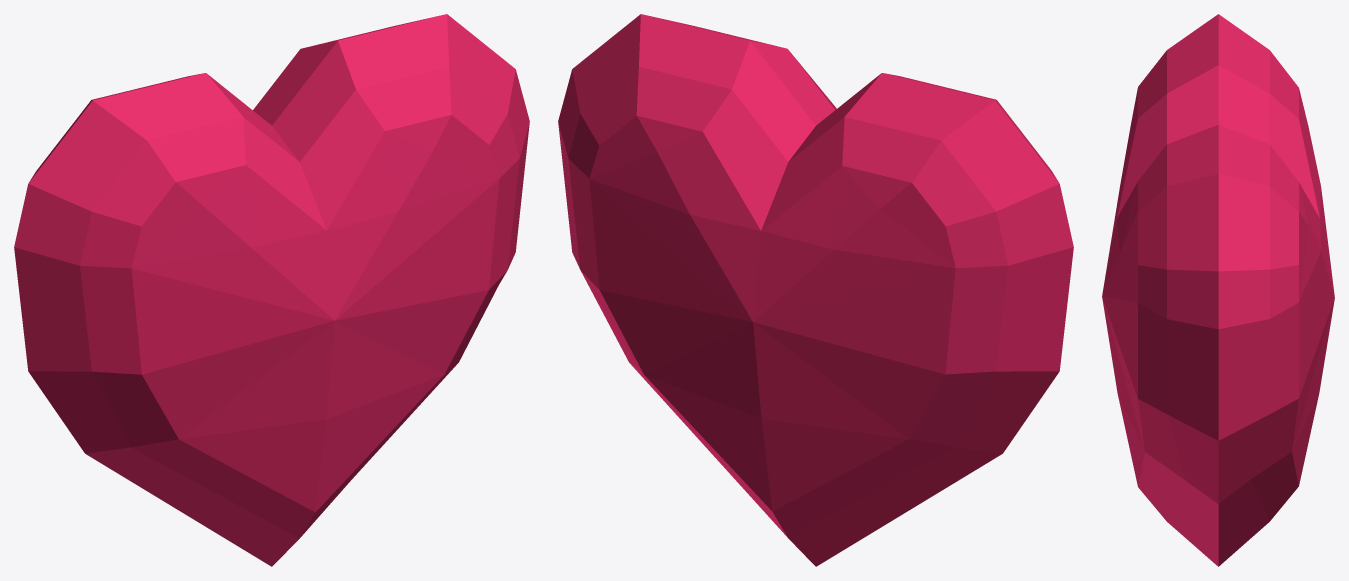
Rendered from heart.gltf.
3 views of the same model, side by side, from view 1: azimuth 30°, elevation 25°; view 2: azimuth 150°, elevation 25°; view 3: azimuth 270°, elevation 25° (orthographic). The views are drawn at different scales.
Visible parts, largest first — view 1: 立方体; view 2: 立方体; view 3: 立方体.
Part boxes in pixels (x1,y1,x2,y2): 立方体: [14, 14, 529, 566]; 立方体: [558, 14, 1073, 566]; 立方体: [1102, 14, 1334, 566].
Bounding box in the file's own units: 2.12 × 2 × 0.8942.
